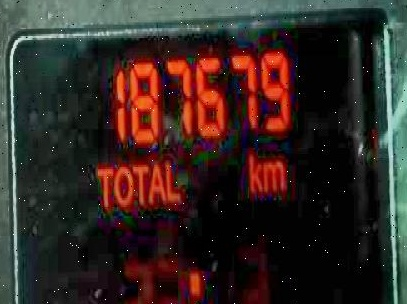1: (113, 58, 127, 144)
6: (195, 51, 224, 138)
7: (229, 49, 258, 138), (164, 51, 191, 138)
8: (129, 56, 161, 145)
9: (261, 47, 290, 133)
X: (130, 153, 147, 207), (261, 158, 285, 196), (94, 162, 113, 209), (163, 156, 180, 207), (113, 162, 130, 209), (244, 147, 260, 193), (149, 160, 163, 206)
